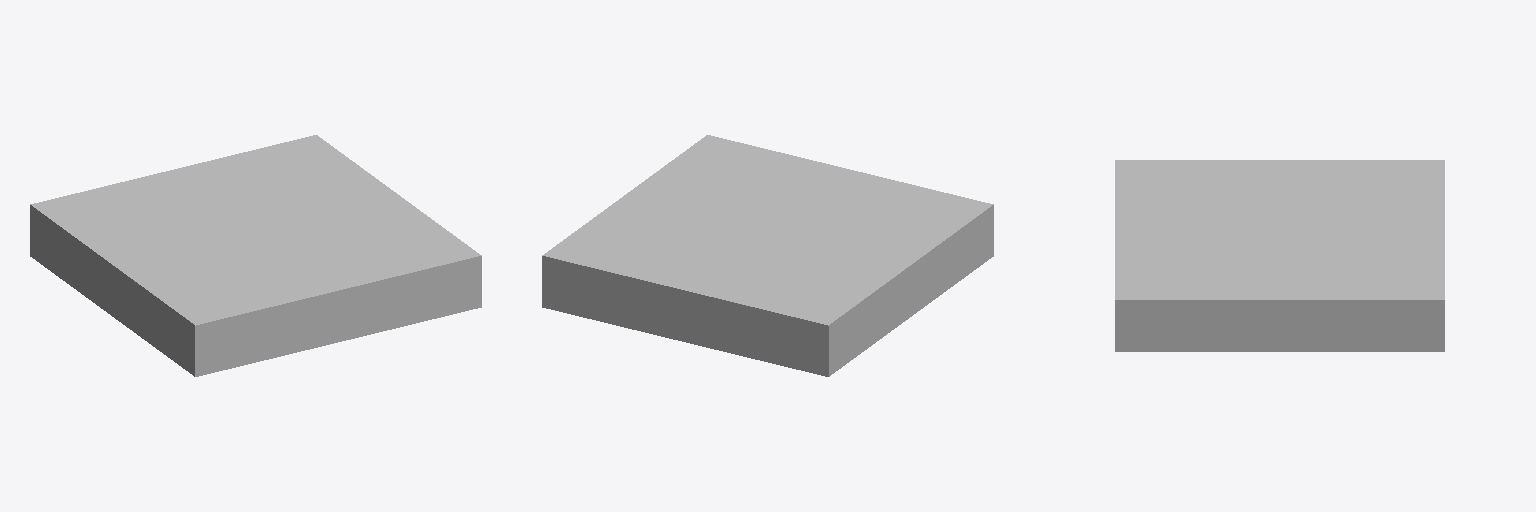
File: lava.obj
3 renders of one model, left to right at view 1: azimuth 30°, elevation 25°; view 2: azimuth 150°, elevation 25°; view 3: azimuth 270°, elevation 25°, orthographic.
Visible parts, largest first — view 1: Cube_Cube.001; view 2: Cube_Cube.001; view 3: Cube_Cube.001.
Part boxes in pixels (x1,y1,x2,y2): Cube_Cube.001: (30,135,481,376); Cube_Cube.001: (542,135,993,376); Cube_Cube.001: (1115,160,1444,351).
Size of the model in its own units: 400 by 69.13 by 400.